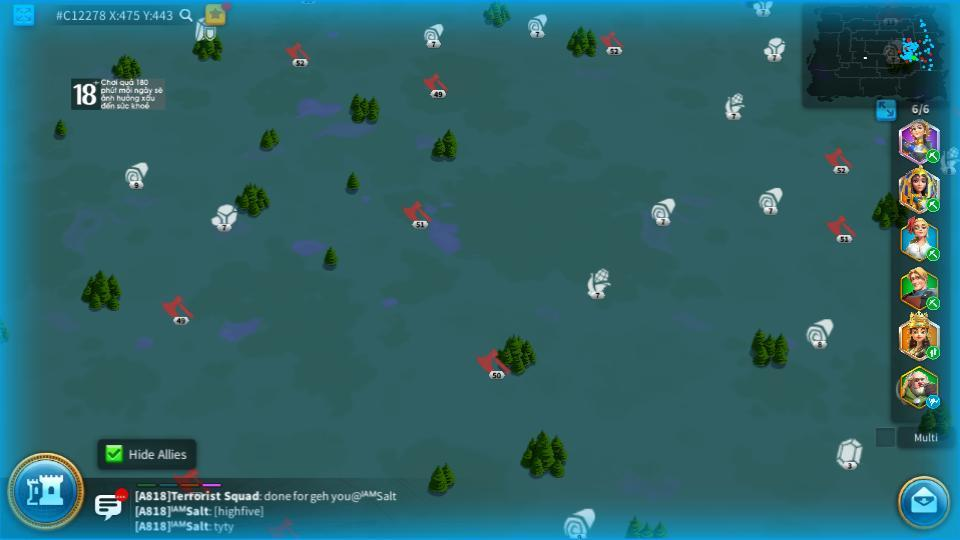gem-z-out: (834, 438, 862, 469)
march_farming: (924, 197, 939, 212)
march_idle: (925, 395, 942, 407)
march_marching: (925, 345, 941, 359)
